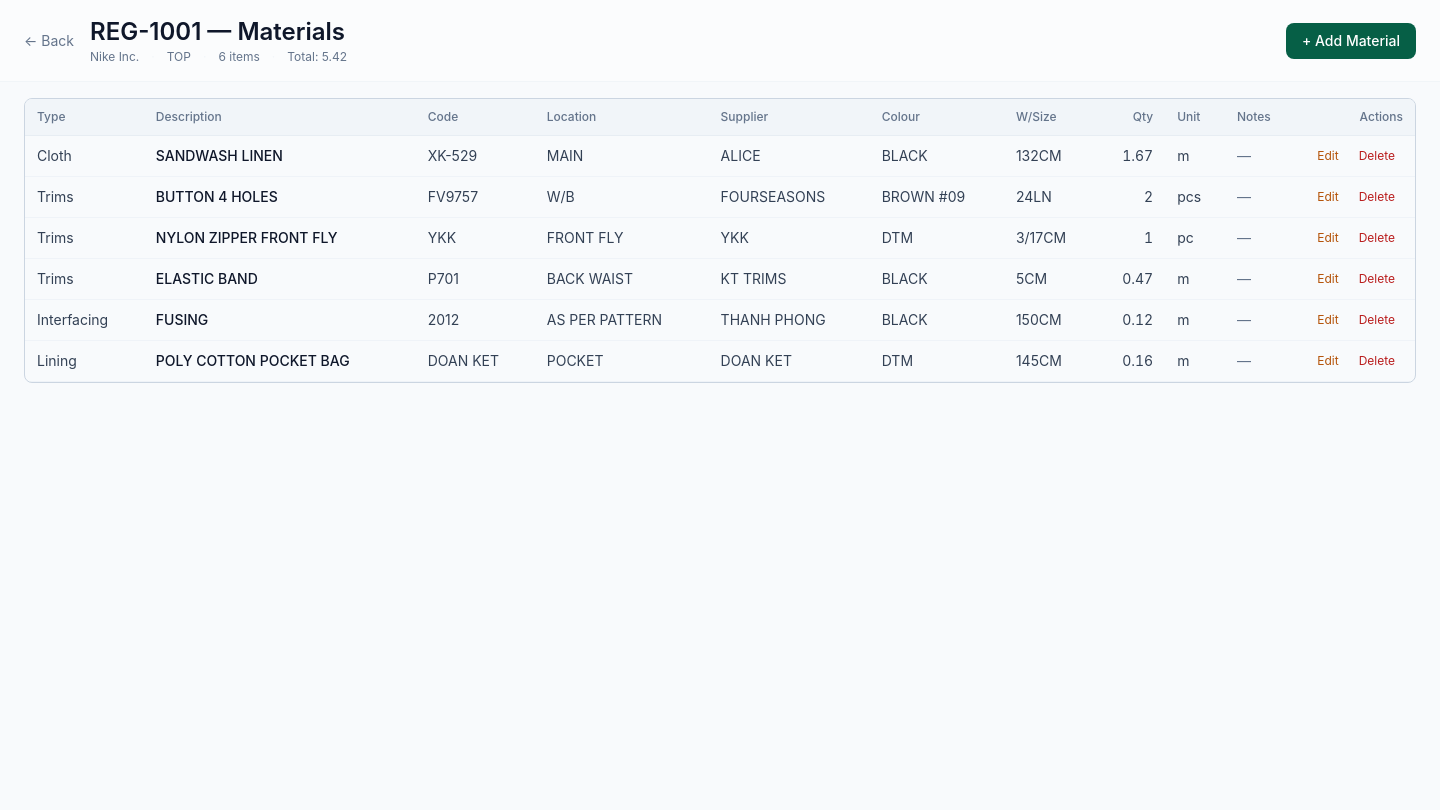
it: DesignMaterialsPage › edits an existing material
Expected: the text "SANDWASH LINEN" is shown, 156,147 -> 283,164
Click the button "Edit" in the row of "Cloth".
click(1328, 156)  # box 1309,144 -> 1347,168
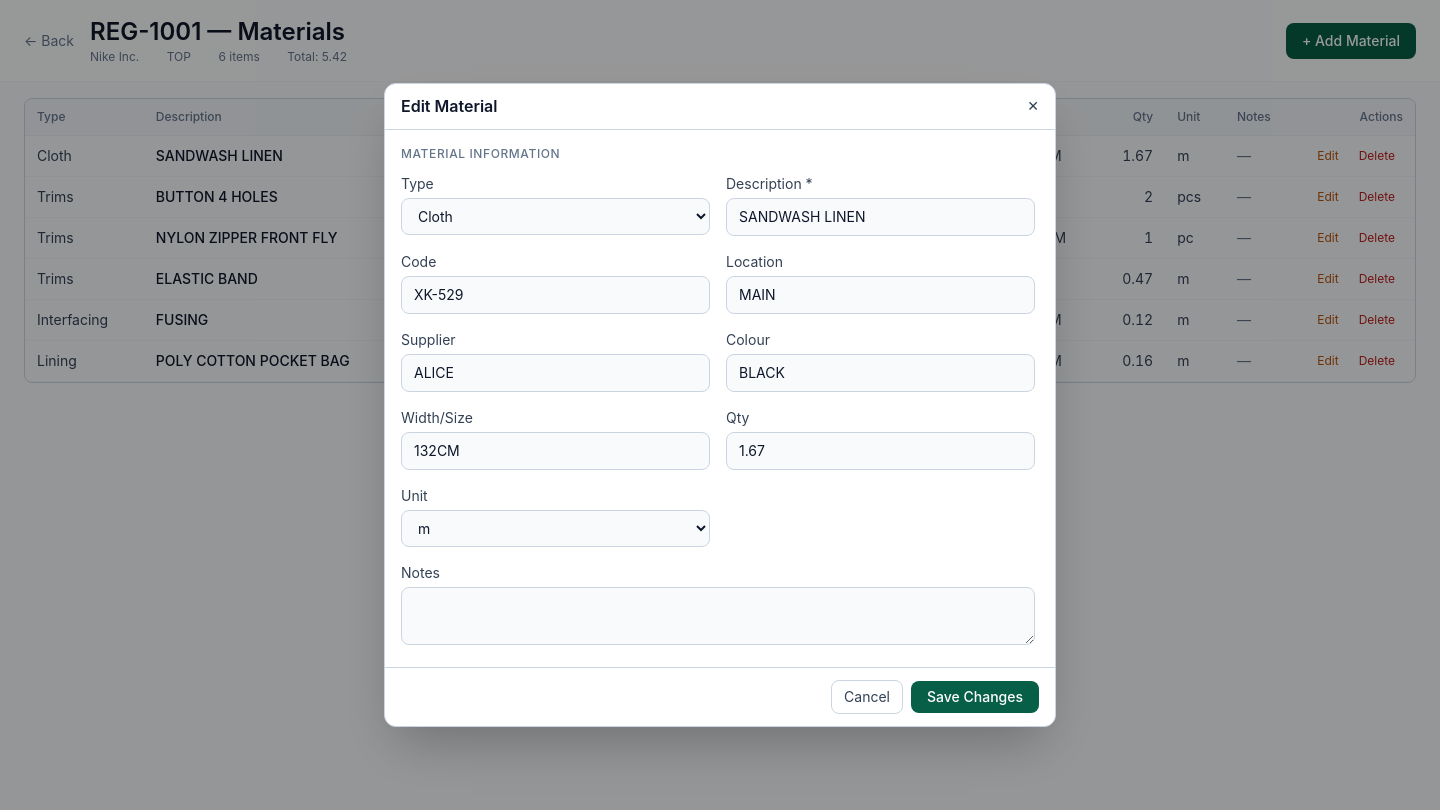
Expected: the field showing "SANDWASH LINEN" is shown
Replace the text in the field labelled "Description *" with "UPDATED LINEN" at (880, 217), box 726,198 -> 1035,236
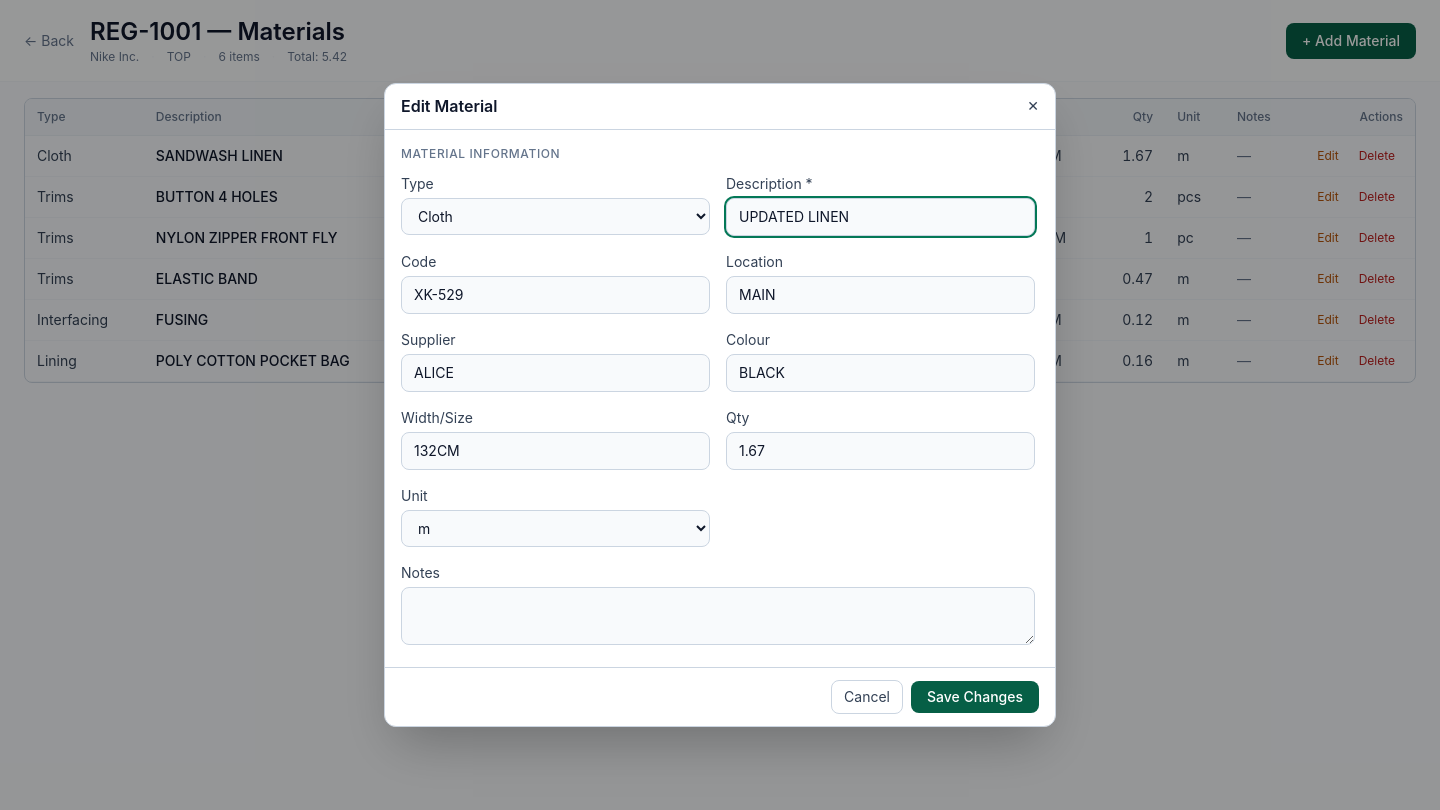
Click the button "Save Changes".
click(975, 697)  # box 911,681 -> 1039,713
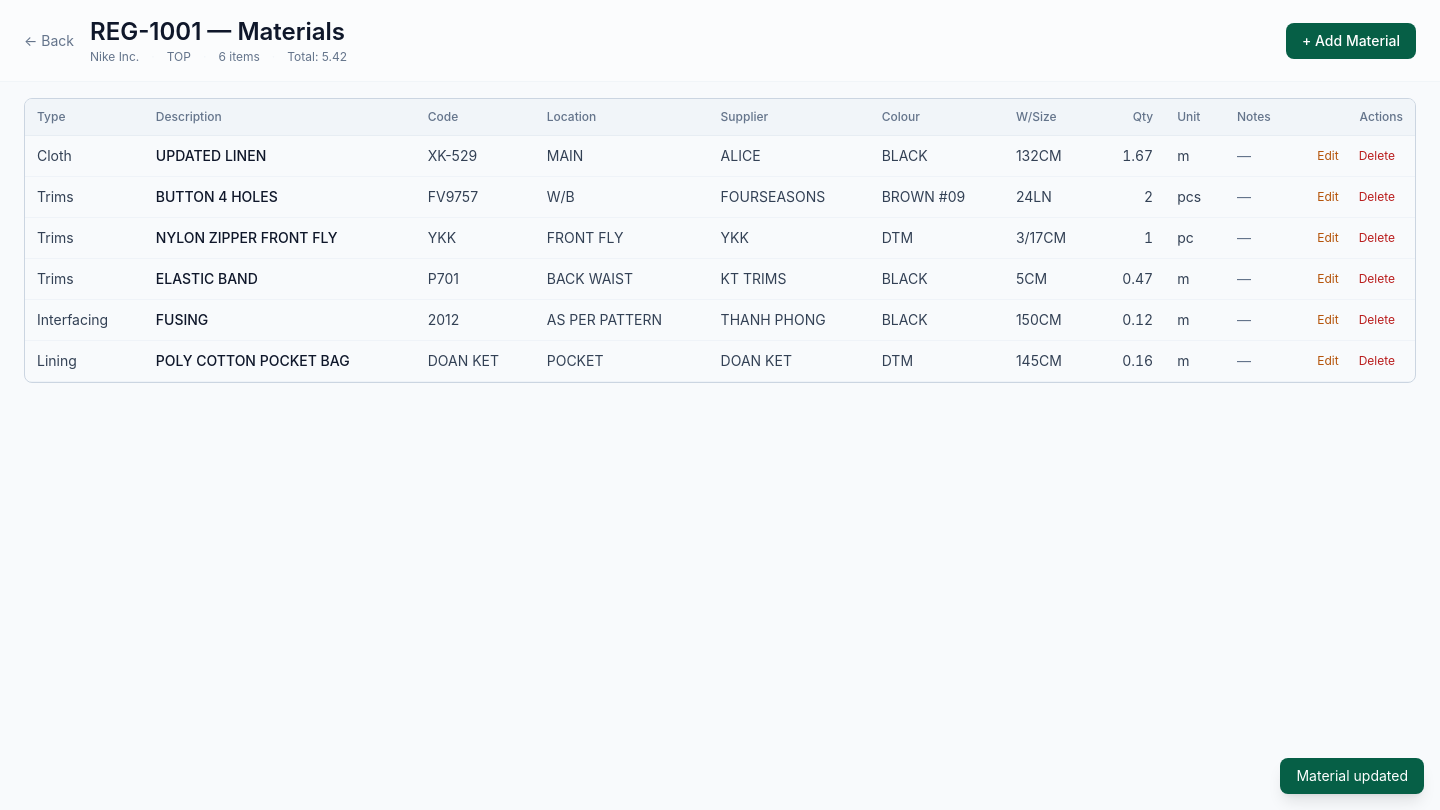
Expected: the text "UPDATED LINEN" is shown, 156,147 -> 266,164
Expected: the text "SANDWASH LINEN" is gone
